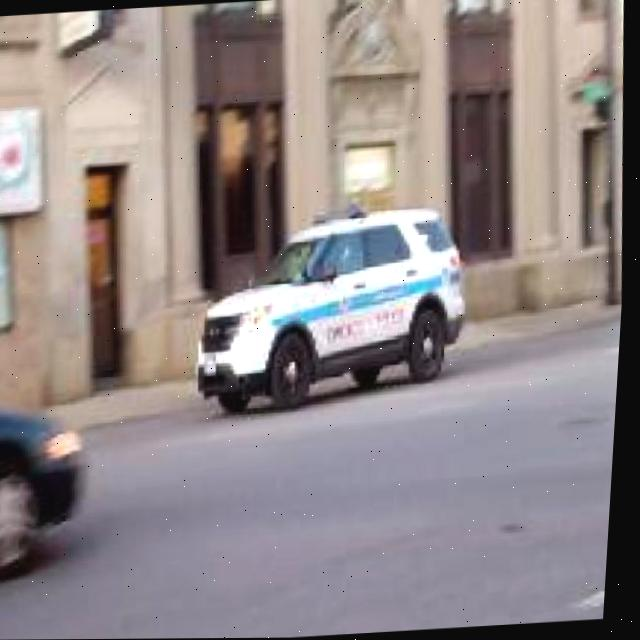emergency: (189, 198, 481, 419)
